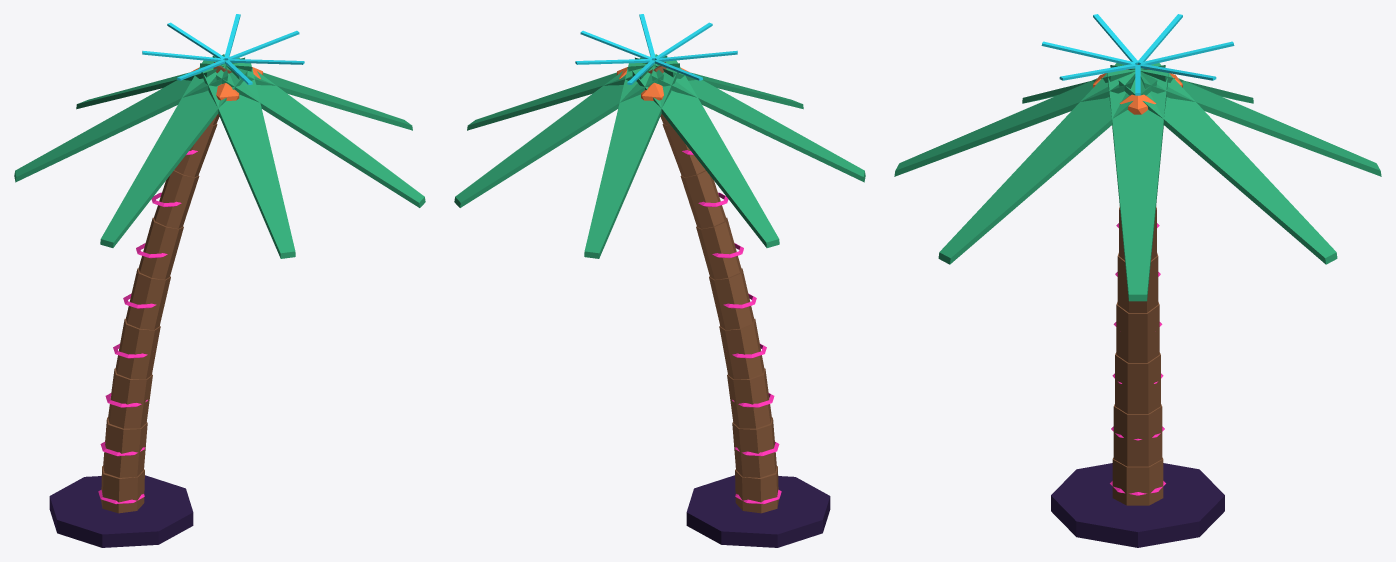
The model's file is NeonPalm.fbx.
3 renders of one model, left to right at view 1: azimuth 30°, elevation 25°; view 2: azimuth 150°, elevation 25°; view 3: azimuth 270°, elevation 25°, orthographic. The views are drawn at different scales.
Visible parts, largest first — view 1: NeonPalm, NeonPalm_Glow; view 2: NeonPalm, NeonPalm_Glow; view 3: NeonPalm, NeonPalm_Glow.
Boxes of the visible parts, box(x1,y1,x2,y2) form: NeonPalm: box(14, 54, 425, 547); NeonPalm_Glow: box(98, 14, 304, 504); NeonPalm: box(454, 54, 865, 547); NeonPalm_Glow: box(575, 14, 781, 504); NeonPalm: box(894, 63, 1381, 547); NeonPalm_Glow: box(1041, 14, 1234, 495).
Bounding box in the file's own units: 546 × 658 × 559.
1 material, 1 textured.
